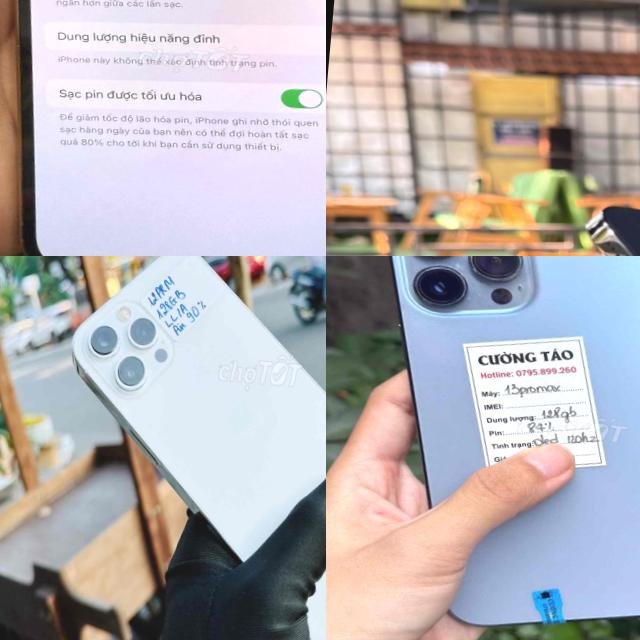gen_12_13: (343, 256, 640, 640), (0, 0, 326, 256), (72, 256, 326, 559)
